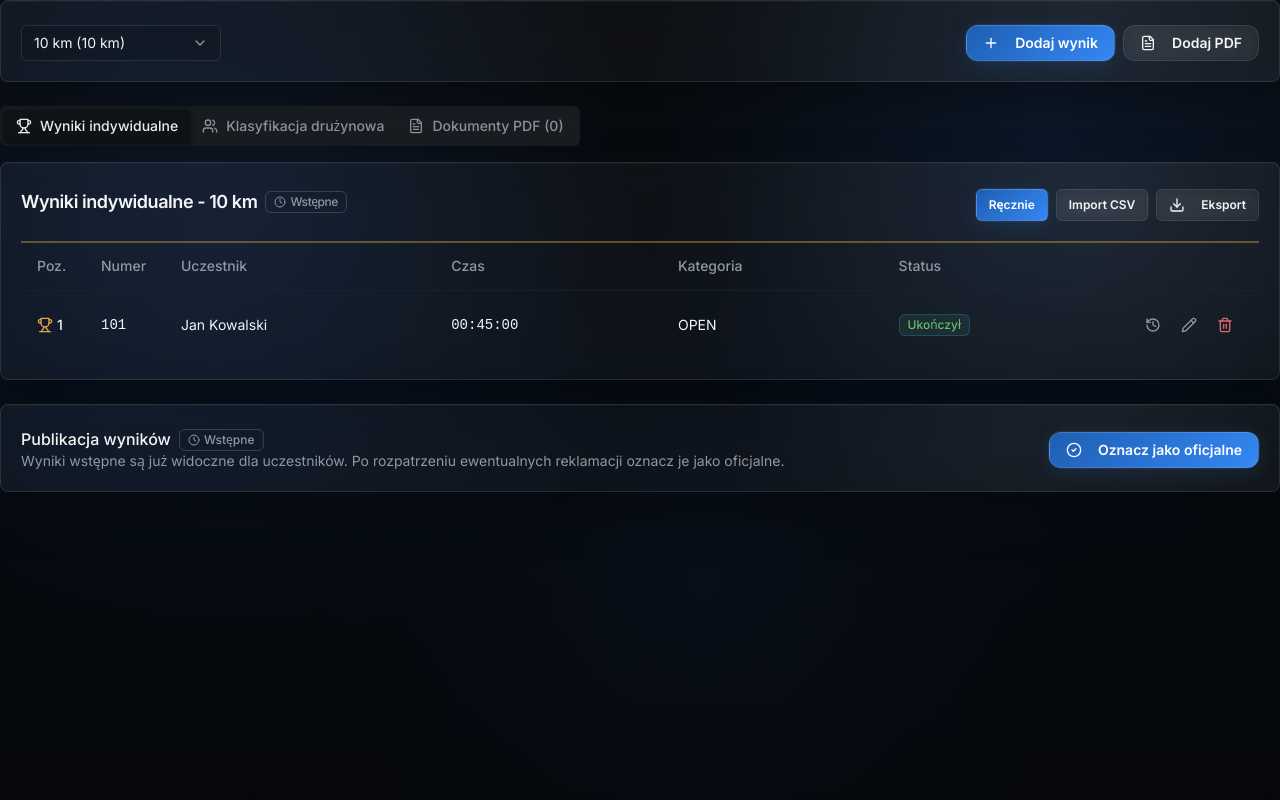
Test: ResultsTab result corrections › opens the edit dialog with the reason field from the row
Click the button named "Koryguj wynik" at (1189, 324), box [1171,306,1207,342]
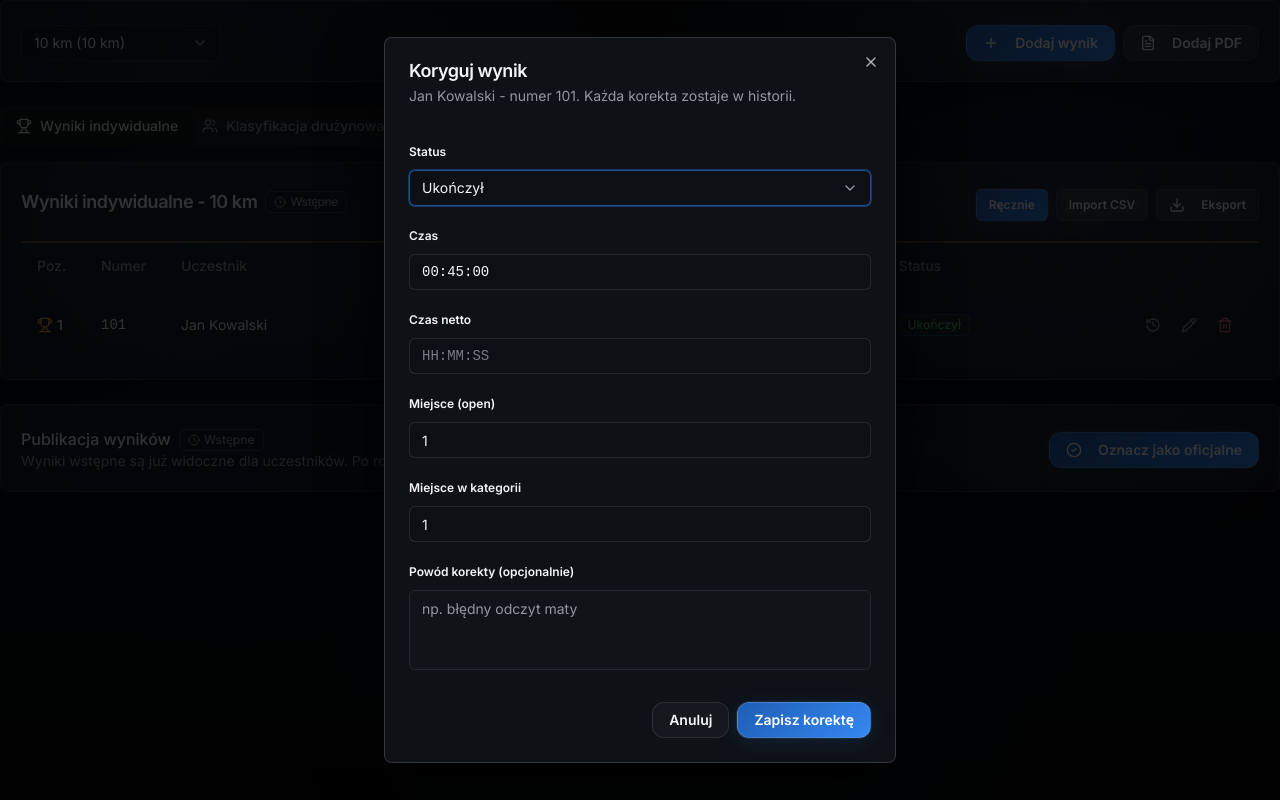
expect the text box labelled "Powód korekty (opcjonalnie)" is shown: met, box [409,590,871,670]
